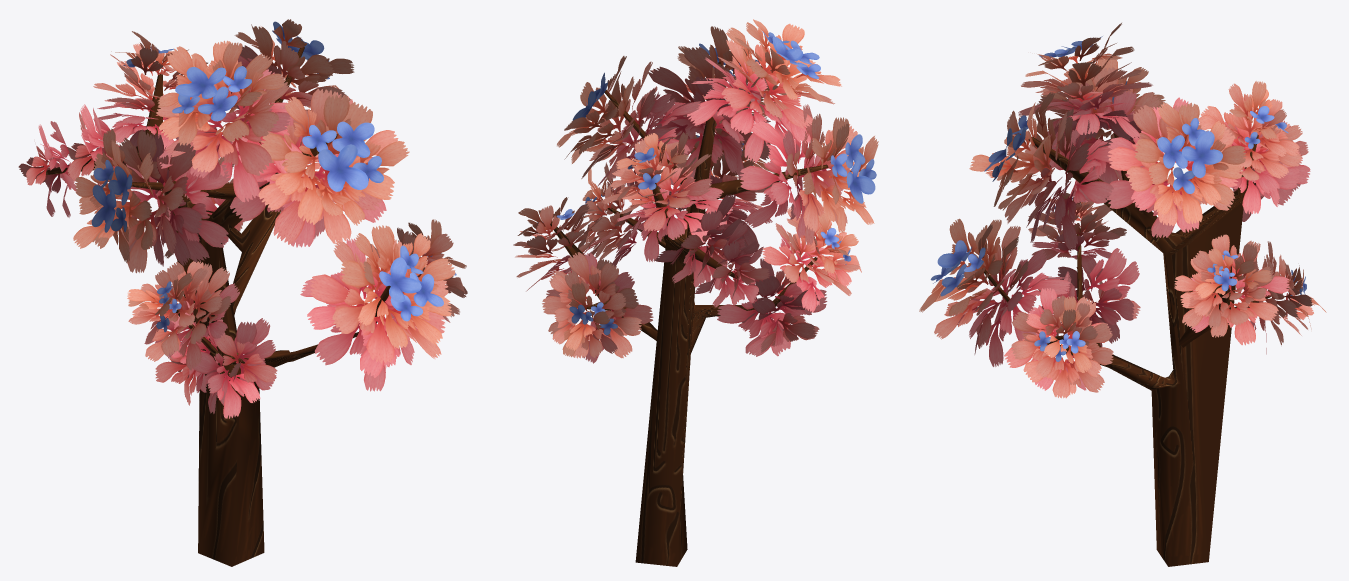
The model's file is pinktree3.fbx.
3 views of the same model, side by side, from view 1: azimuth 30°, elevation 25°; view 2: azimuth 150°, elevation 25°; view 3: azimuth 270°, elevation 25° (orthographic). The views are drawn at different scales.
Parts seen in each view (by area): view 1: TRW1; view 2: TRW1; view 3: TRW1.
Part boxes in pixels (x1,y1,x2,y2): TRW1: (18, 19, 467, 566); TRW1: (513, 19, 878, 566); TRW1: (919, 23, 1326, 566).
Bounding box in the file's own units: 520 × 763 × 579.
